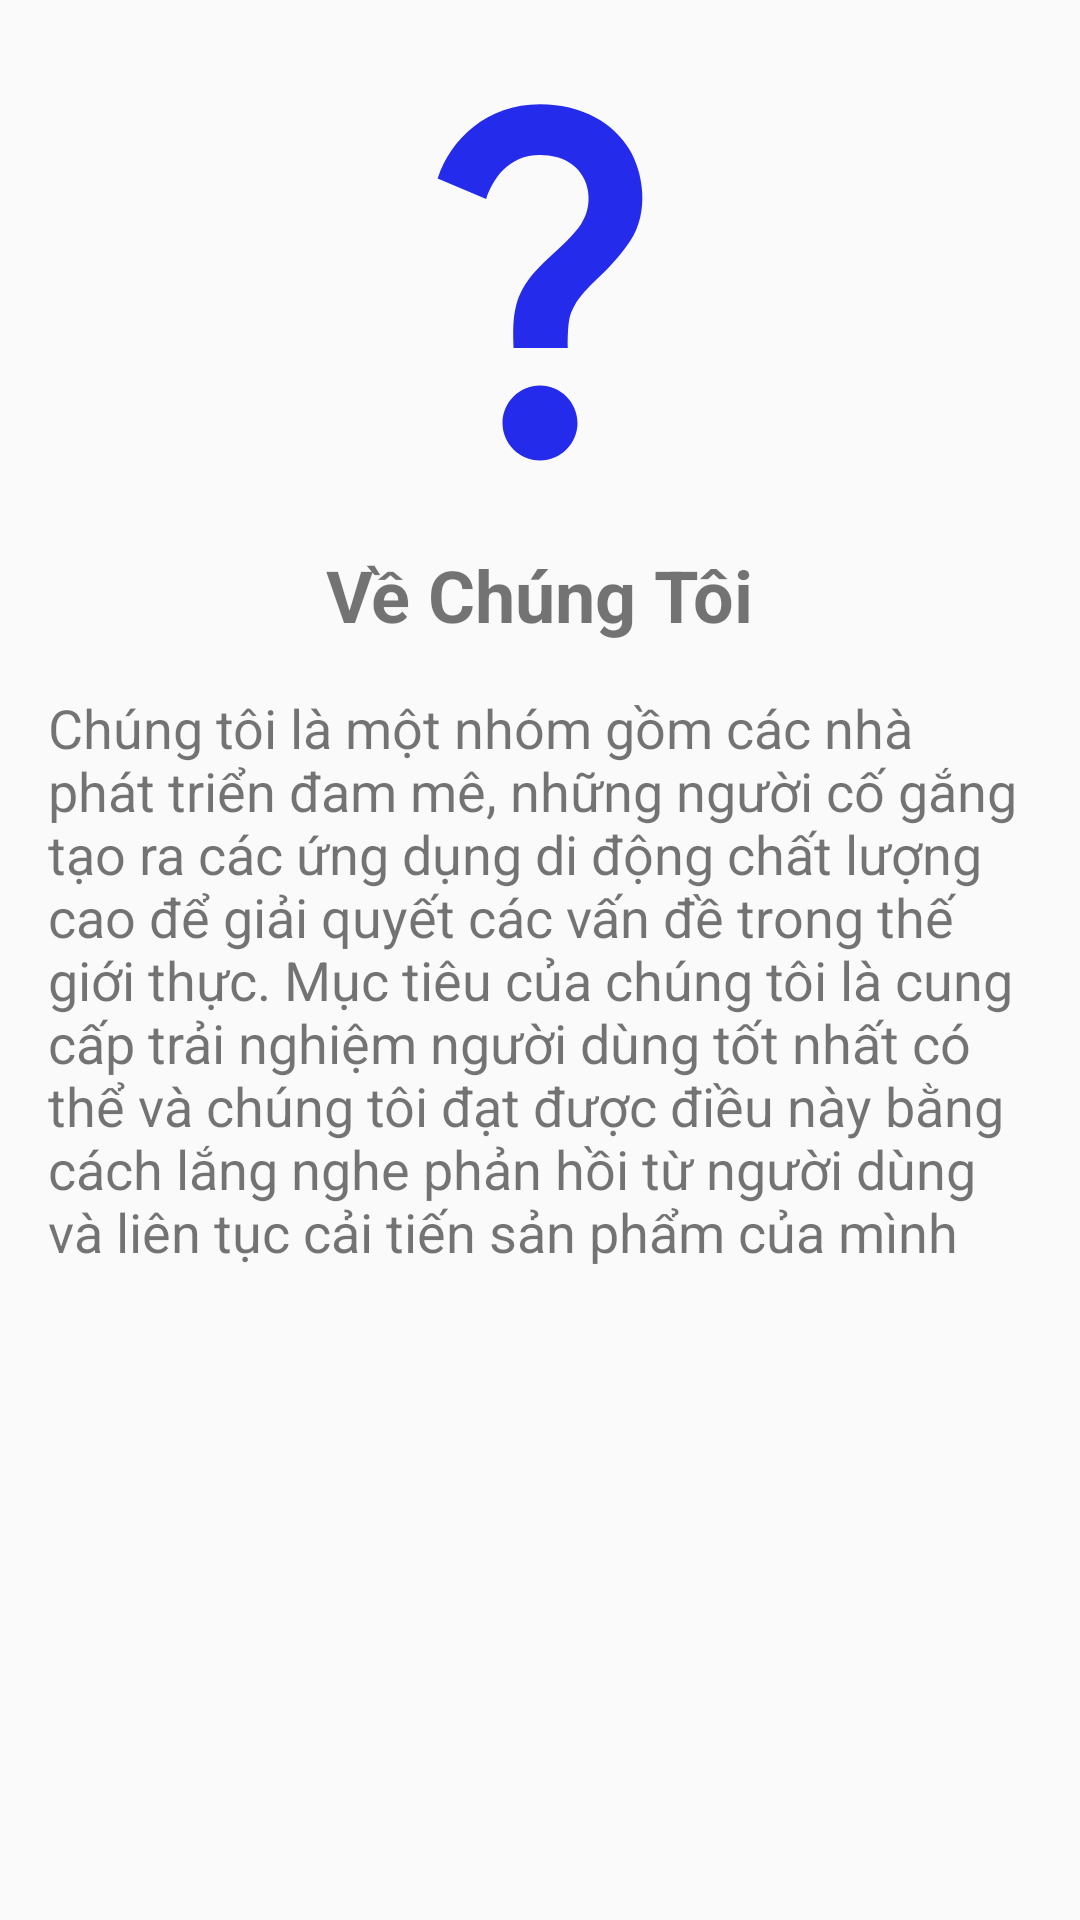

Icon click points for this 1080x1920 phone screenshot, format [x,y]:
question mark: [540,282]
